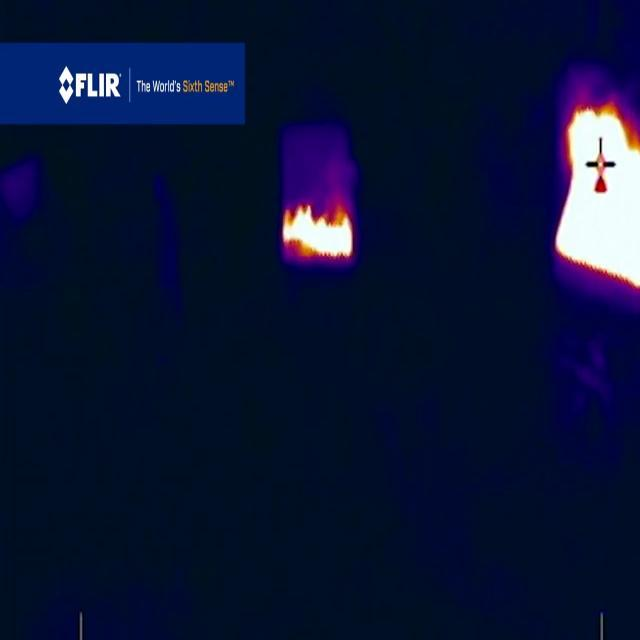fire: (554, 105, 640, 292), (281, 200, 355, 262)
